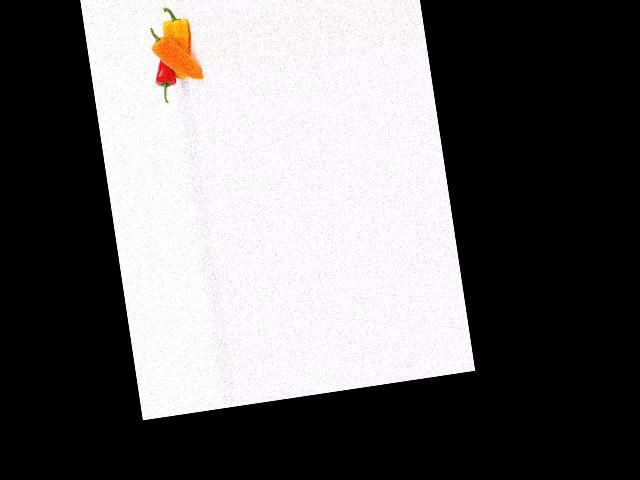bell_pepper: (156, 1, 199, 63)
